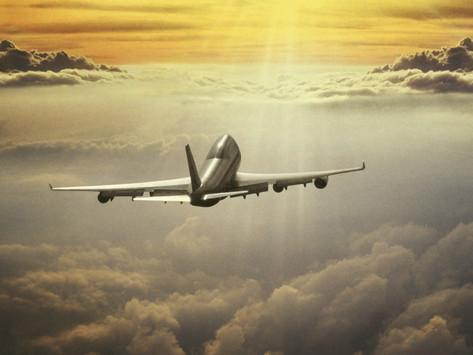plane: (47, 134, 366, 209)
